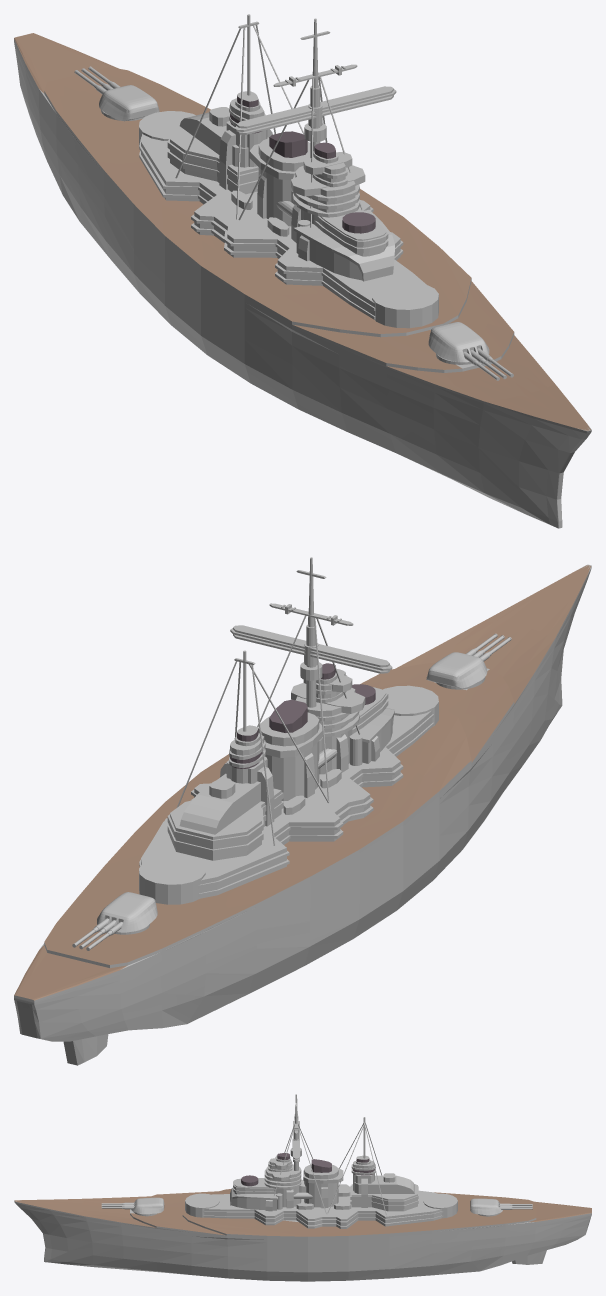
The model's file is big_classic2.fbx.
The picture shows the model from 3 angles, top to bottom: view 1: azimuth 30°, elevation 25°; view 2: azimuth 150°, elevation 25°; view 3: azimuth 270°, elevation 25°; orthographic projection. The views are drawn at different scales.
Visible parts, largest first — view 1: big_classic2; view 2: big_classic2; view 3: big_classic2.
Part boxes in pixels (x1=…): big_classic2: x1=14, y1=14, x2=591, y2=528; big_classic2: x1=14, y1=557, x2=591, y2=1065; big_classic2: x1=14, y1=1094, x2=591, y2=1281.
Size of the model in its own units: 1469 by 2304 by 7121.
